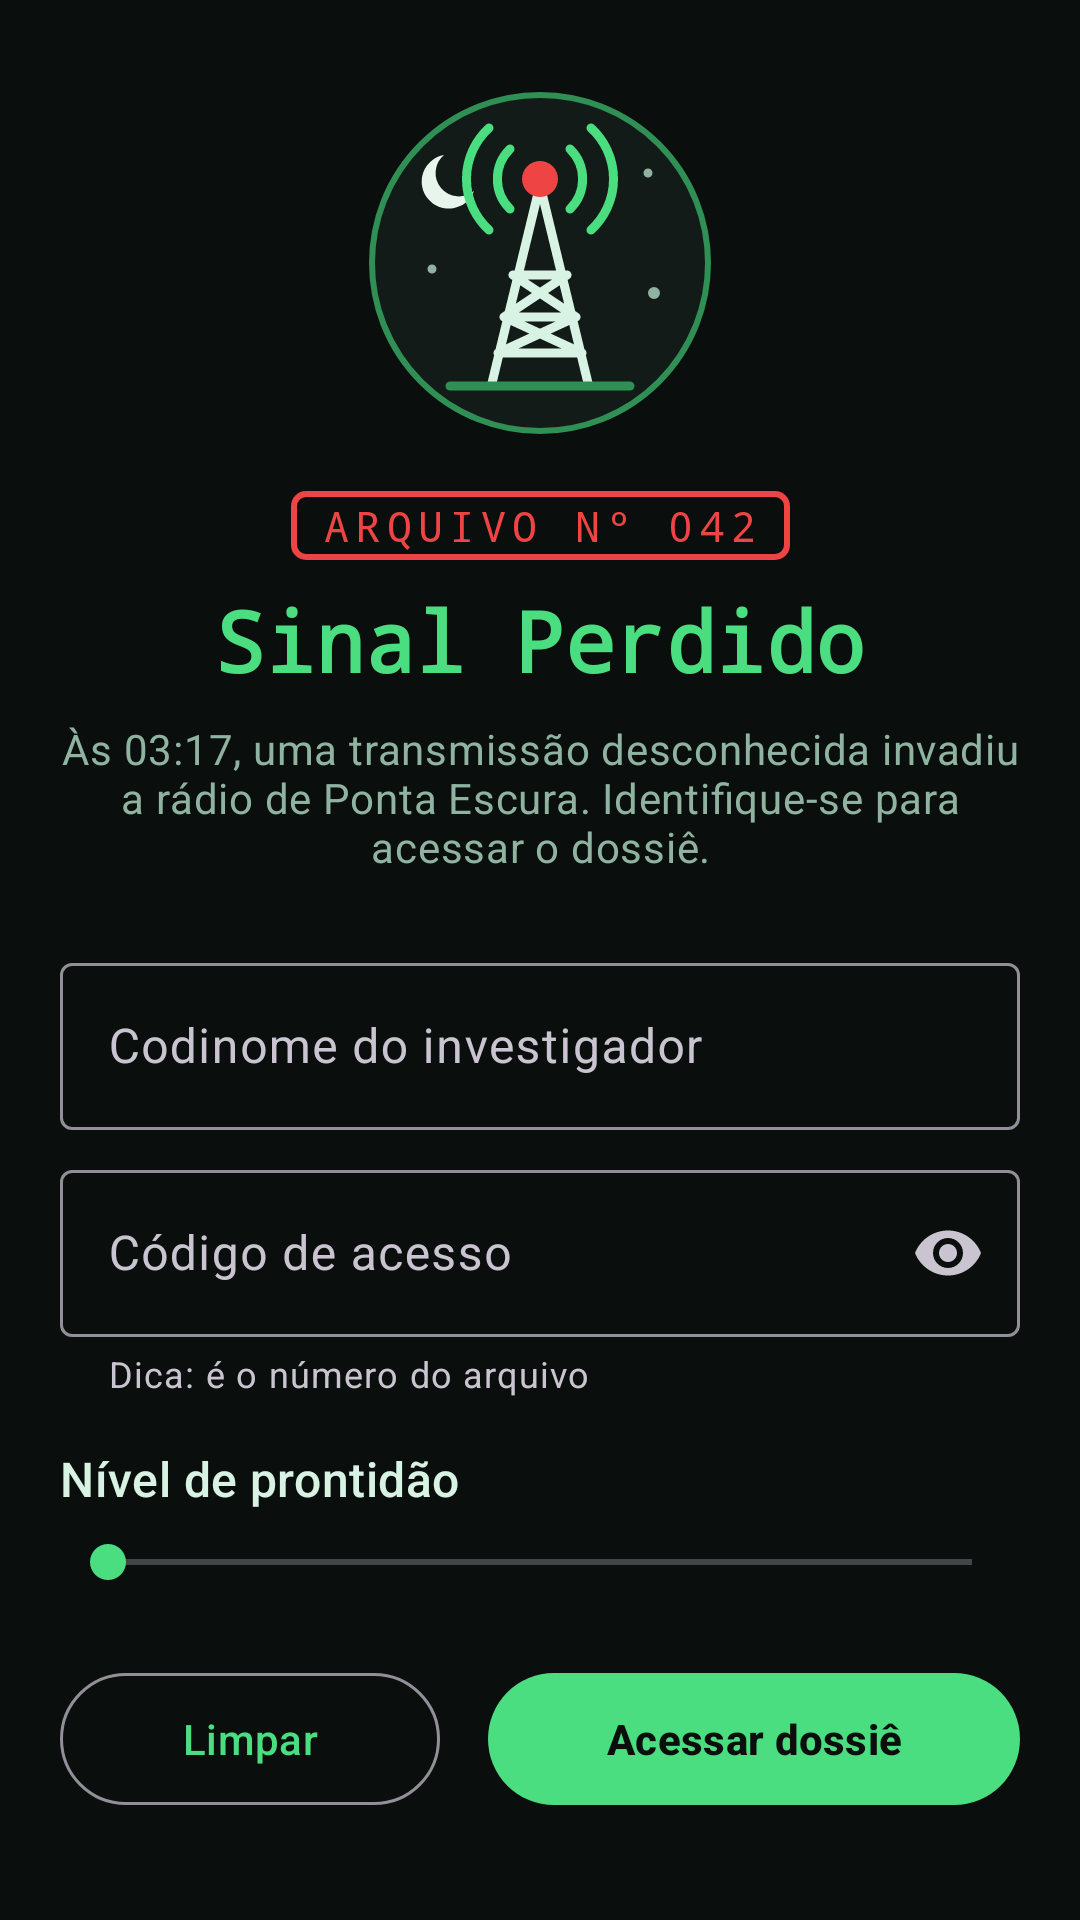

Icons on this 1080w x 1920h Android screen, each with its box as (x1, y1, x2, y2):
Torre de rádio emitindo ondas de sinal sob um céu noturno: (369, 92, 711, 434)
